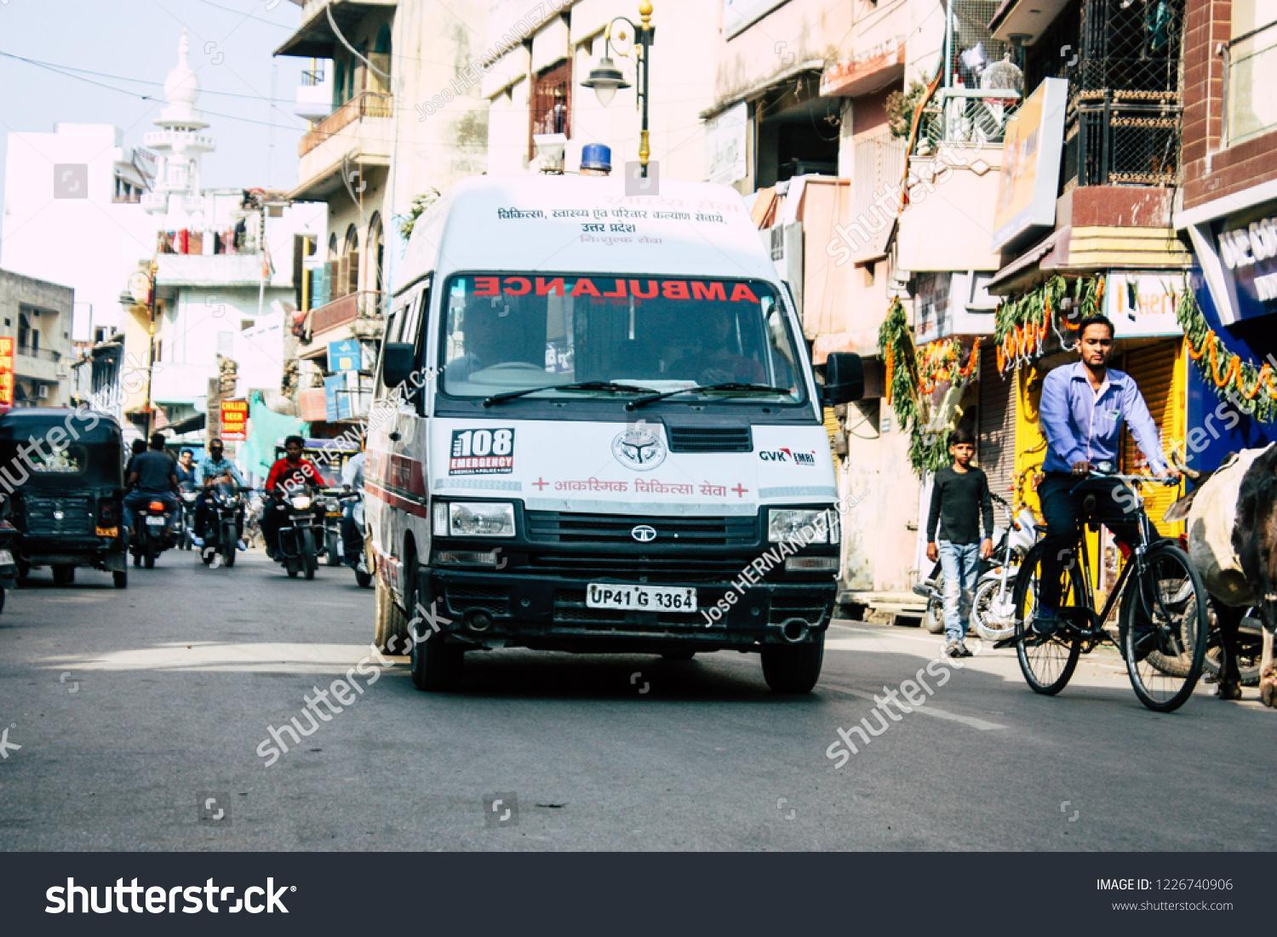Ambulance: (465, 271, 765, 307), (450, 424, 515, 468)
